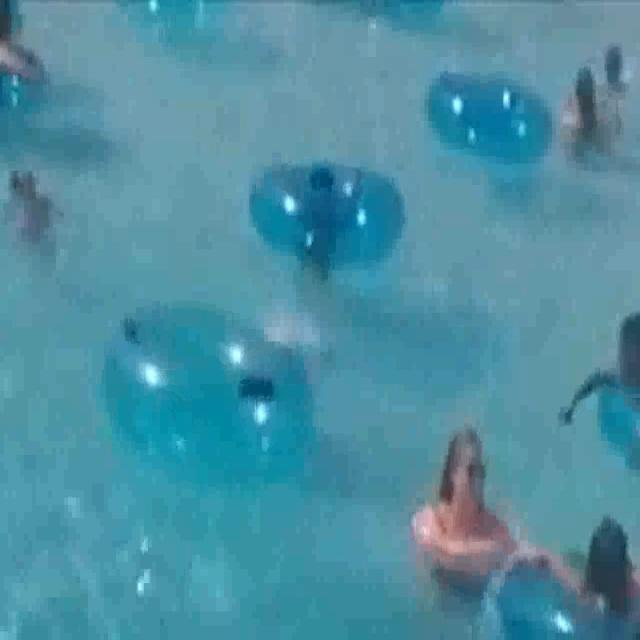drowning: (241, 274, 340, 372)
